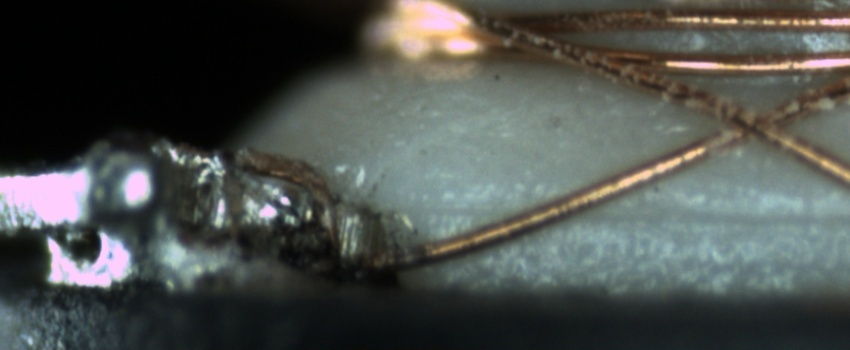CL: (694, 99, 818, 154)
DL: (421, 186, 850, 247)
TE: (234, 143, 344, 262)
